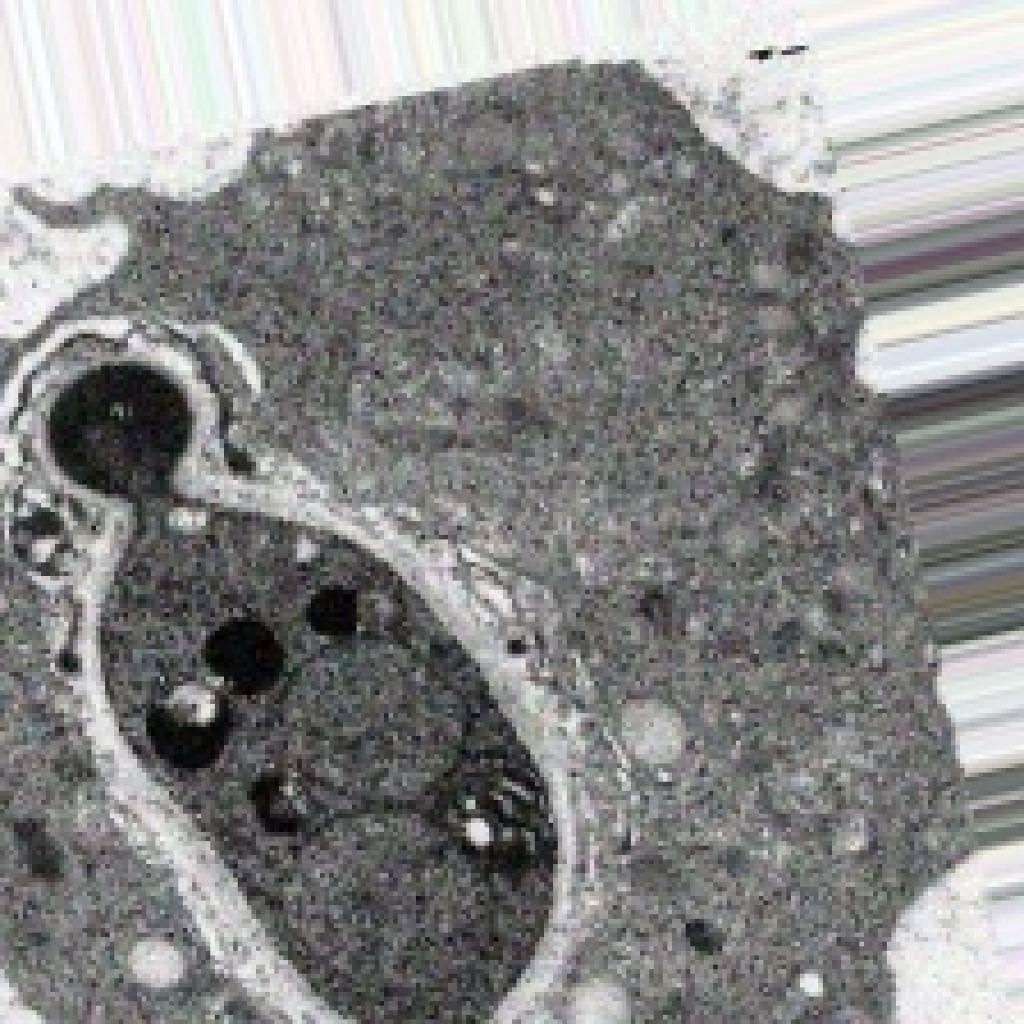Rodbacteria: (0, 41, 983, 1020)
